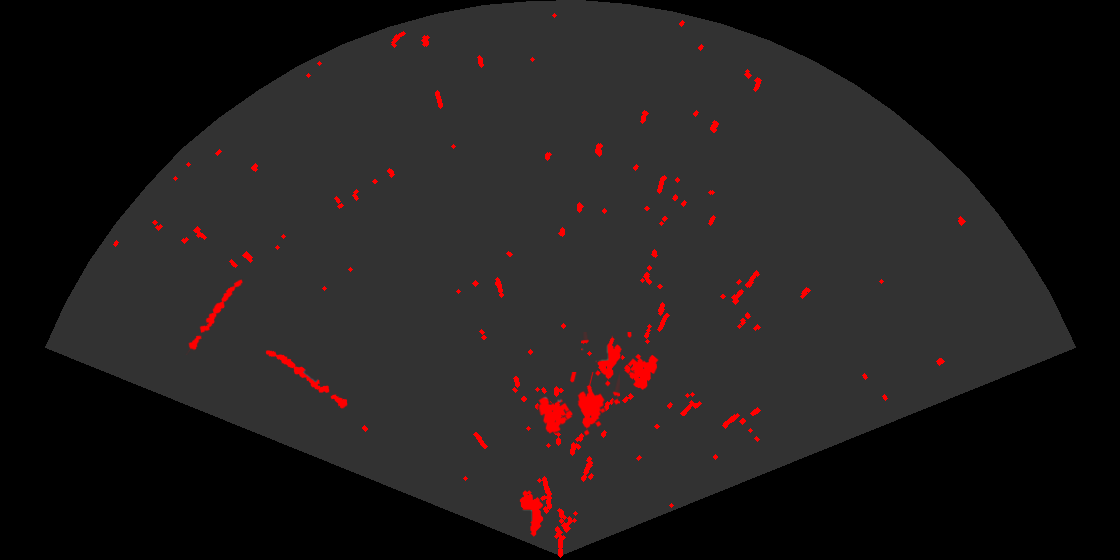AUV: (518, 489, 544, 538)
cage: (537, 372, 620, 437), (581, 332, 660, 391)
chain: (264, 349, 349, 410), (184, 278, 244, 355)
